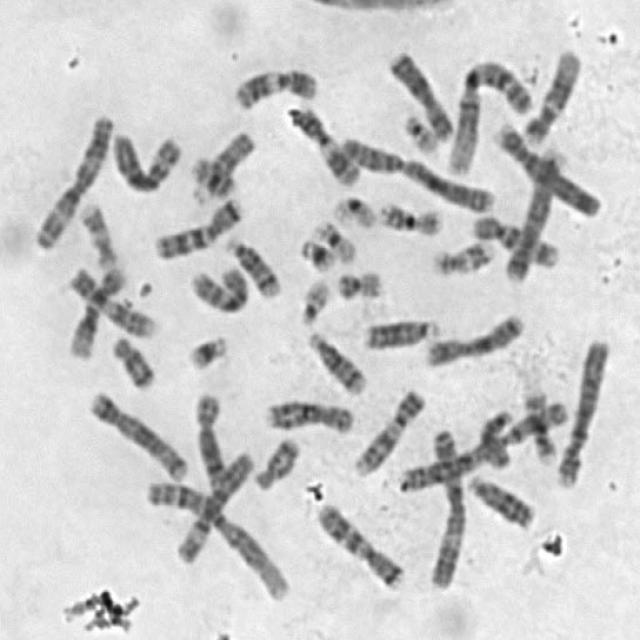A1: (139, 474, 293, 602), (441, 52, 537, 178)
A2: (392, 396, 570, 495), (335, 130, 500, 214)
A3: (29, 107, 118, 250), (425, 422, 469, 589)
B4: (489, 114, 604, 220), (550, 331, 612, 489)
B5: (82, 384, 190, 483), (498, 140, 570, 286)
C10: (468, 209, 561, 269), (183, 258, 253, 316)
C11: (284, 100, 364, 188), (228, 61, 321, 110)
C12: (516, 41, 584, 146), (63, 260, 128, 360)
C6: (172, 444, 258, 566), (107, 124, 185, 194)
C7: (311, 496, 408, 592), (149, 190, 247, 260)
C8: (188, 386, 230, 488), (260, 394, 358, 436)
C9: (65, 260, 160, 340), (348, 383, 427, 478)
D13: (462, 467, 538, 531), (358, 310, 442, 352)
D14: (302, 324, 370, 396), (219, 231, 283, 300)
D15: (187, 124, 258, 203), (476, 402, 516, 468)
E16: (518, 382, 558, 464), (374, 195, 445, 238)
E17: (426, 232, 498, 278), (75, 196, 119, 270)
E18: (107, 328, 159, 391), (250, 430, 302, 492)
F19: (308, 214, 359, 265), (327, 188, 379, 231)
F20: (186, 152, 239, 200), (332, 264, 386, 301)
G21: (181, 327, 232, 373), (295, 232, 339, 274)
G22: (294, 271, 334, 327), (399, 108, 442, 156)
X: (383, 44, 458, 143), (420, 306, 527, 369)
